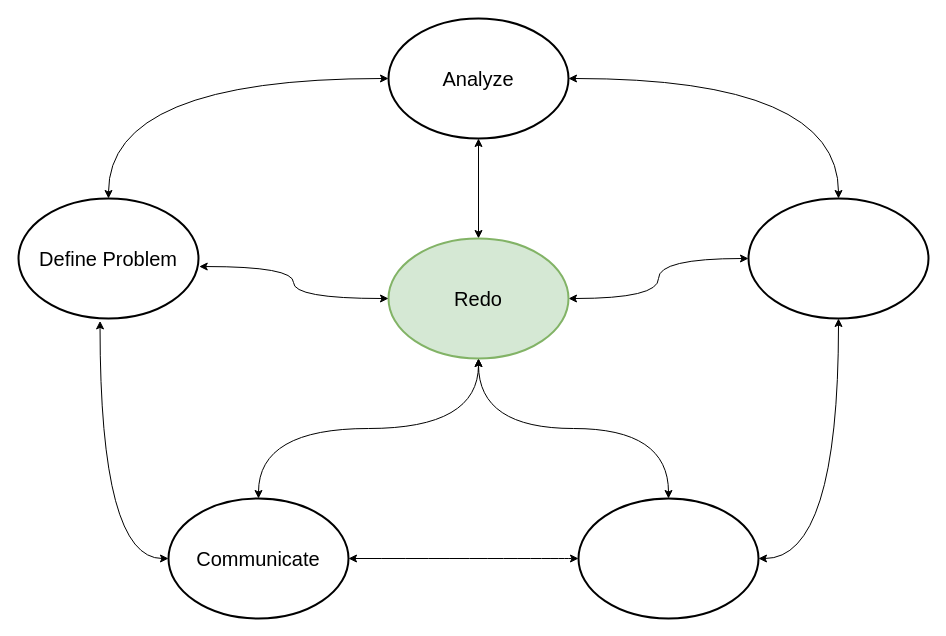
The diagram is 946 pixels wide and 636 high, and some of its shapes have lost their labels. The centre of each missing label's shape, as x and y in pixels:
"Frame, Refine, Prioritize" goes at (838,258).
"Plan & Analyze" goes at (668,558).
